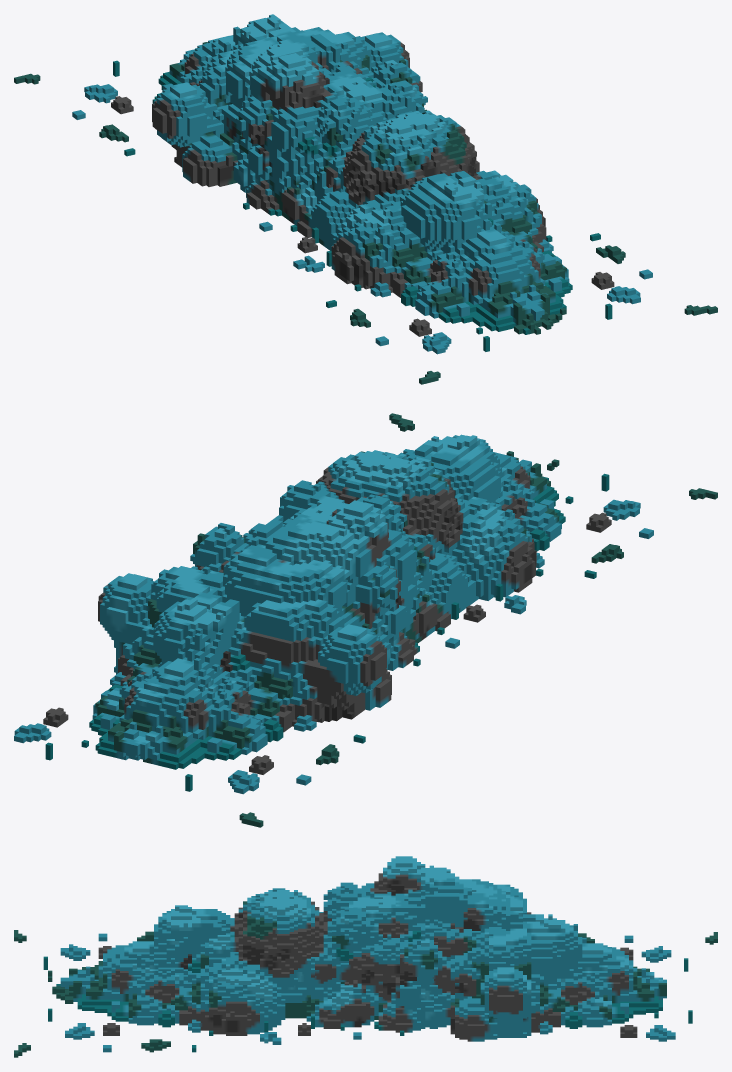
Rendered from mossrocklong_pieces.fbx.
3 views of the same model, one above another, from view 1: azimuth 30°, elevation 25°; view 2: azimuth 150°, elevation 25°; view 3: azimuth 270°, elevation 25° (orthographic). The views are drawn at different scales.
Parts seen in each view (by area): view 1: snowrock2_2; view 2: snowrock2_2; view 3: snowrock2_2.
Part boxes in pixels (left/top/right/bottom): snowrock2_2: left=14, top=14, right=717, bottom=384; snowrock2_2: left=14, top=413, right=717, bottom=827; snowrock2_2: left=14, top=856, right=717, bottom=1057.
Size of the model in its own units: 69 by 30 by 166.
1 material, 1 textured.
